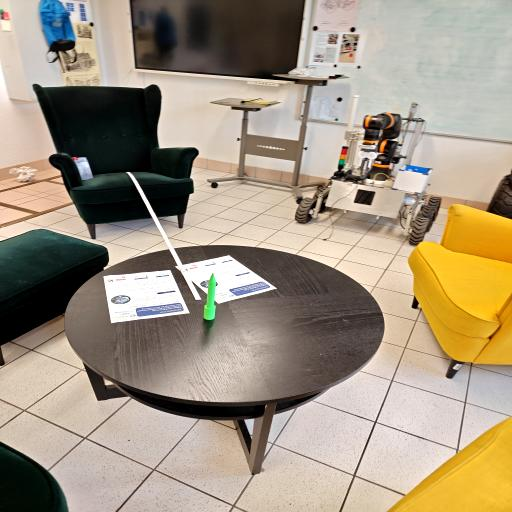Probe-Detection: (203, 273, 216, 320)
